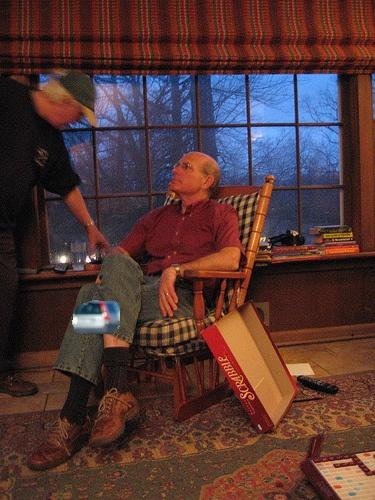tampered: (73, 301, 120, 334)
